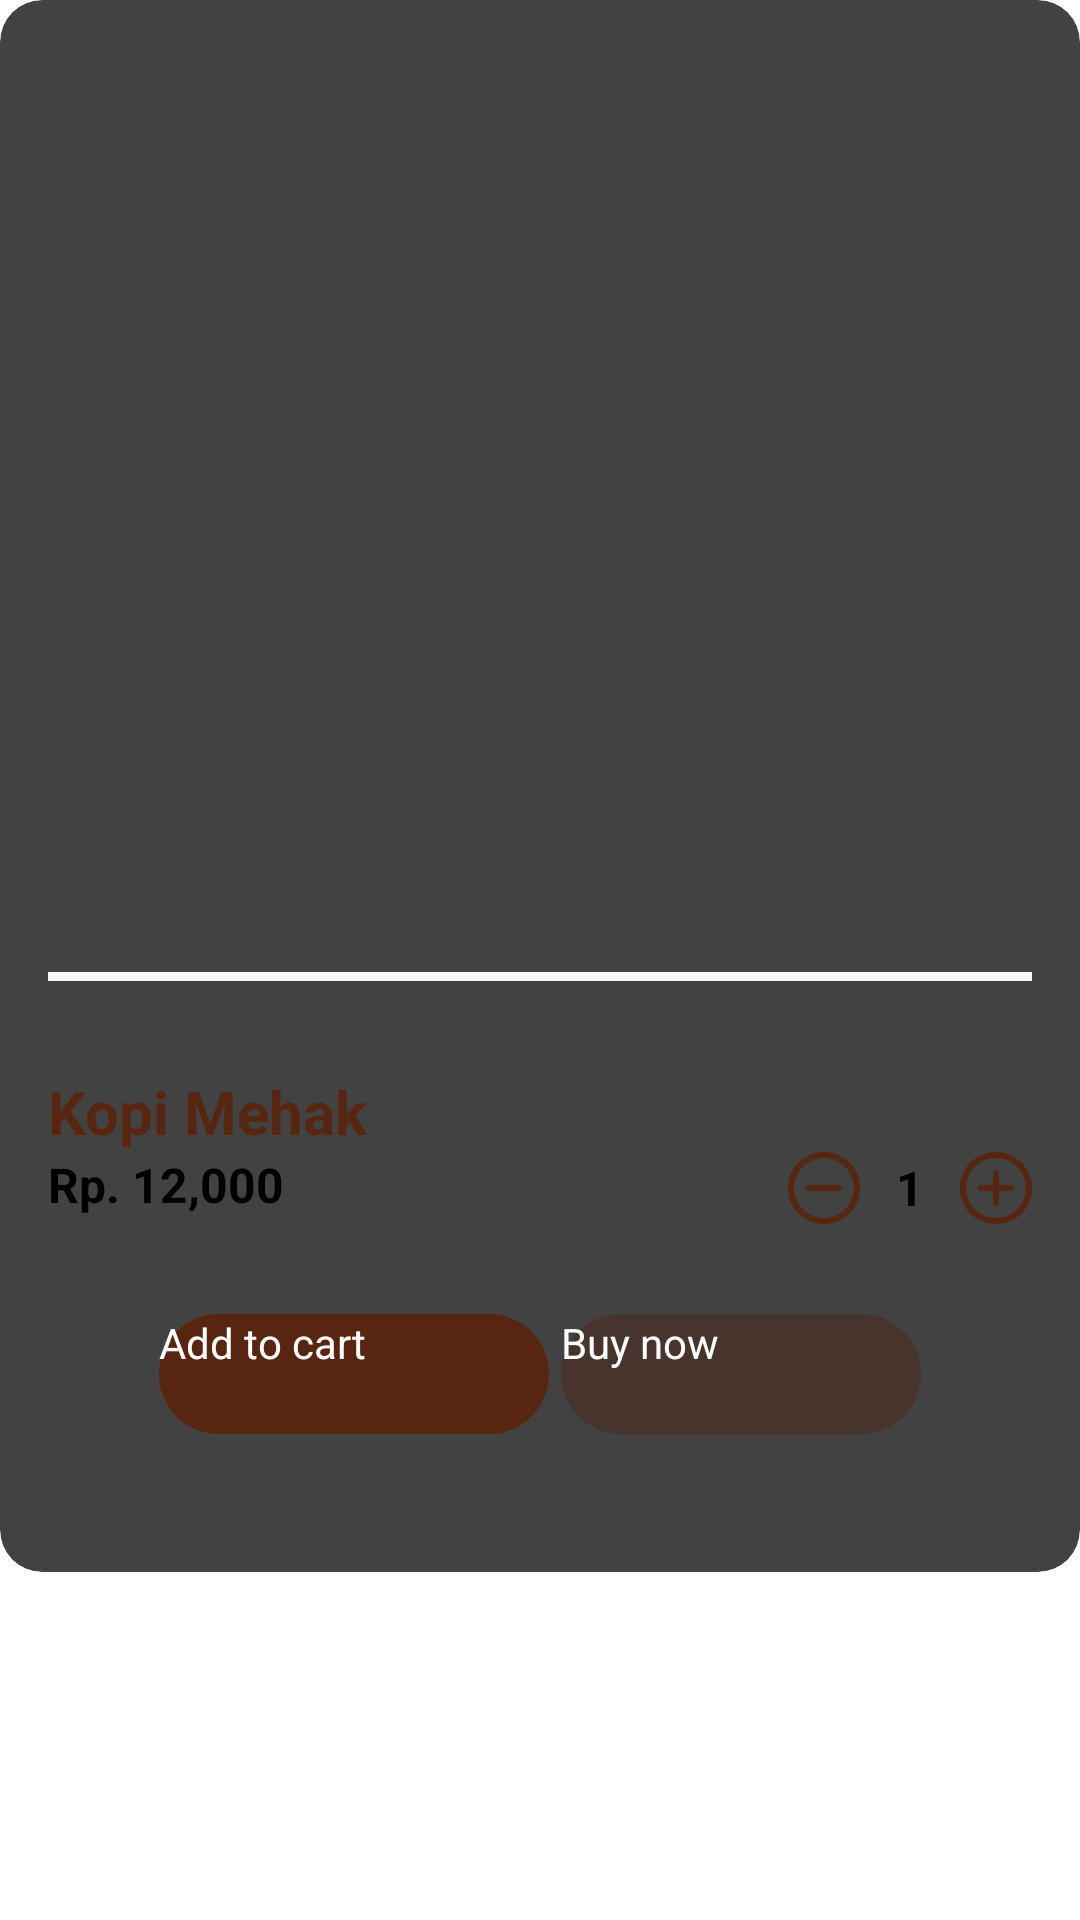

Locate icon controls on the screen. Image size 1080×1920, boxes as [left=x1, top=y1, right=x2, bottom=y2].
minus: [left=788, top=1152, right=860, bottom=1224]
plus: [left=960, top=1152, right=1032, bottom=1224]
